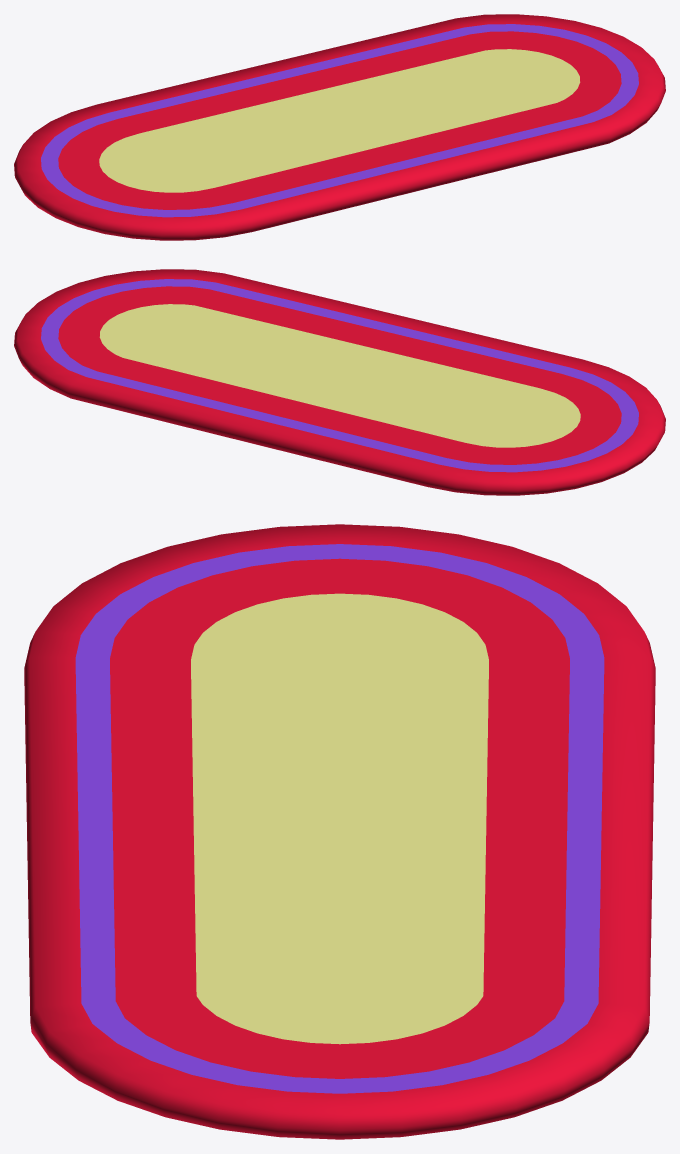
The model's file is uglyRug.fbx.
The picture shows the model from 3 angles, top to bottom: view 1: azimuth 30°, elevation 25°; view 2: azimuth 150°, elevation 25°; view 3: azimuth 270°, elevation 25°; orthographic projection. The views are drawn at different scales.
Parts seen in each view (by area): view 1: Ugly Rug; view 2: Ugly Rug; view 3: Ugly Rug.
Part boxes in pixels (x1,y1,x2,y2): Ugly Rug: [14, 14, 665, 240]; Ugly Rug: [14, 269, 665, 495]; Ugly Rug: [24, 524, 655, 1139].
Bounding box in the file's own units: 262 × 117 × 5.37.
